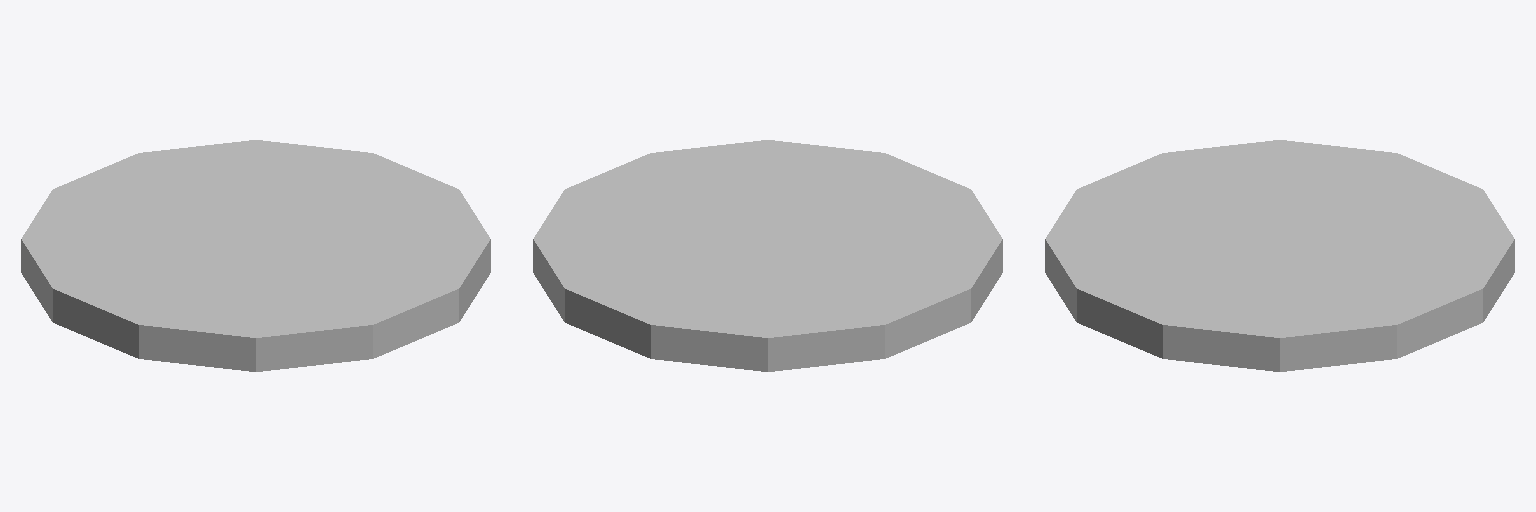
Rendered from Loonie.obj.
The picture shows the model from 3 angles: view 1: azimuth 30°, elevation 25°; view 2: azimuth 150°, elevation 25°; view 3: azimuth 270°, elevation 25°; orthographic projection.
Parts seen in each view (by area): view 1: Loonie; view 2: Loonie; view 3: Loonie.
Part boxes in pixels (x1,y1,x2,y2): Loonie: (21,140,490,371); Loonie: (533,140,1002,371); Loonie: (1045,140,1514,371).
Bounding box in the file's own units: 2 × 0.16 × 2.